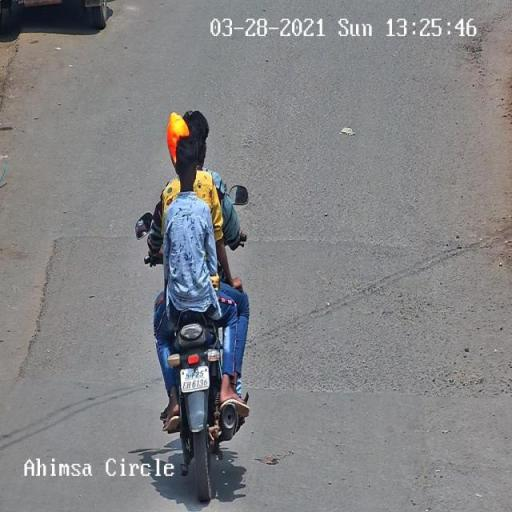tripple riding: (133, 99, 252, 325)
